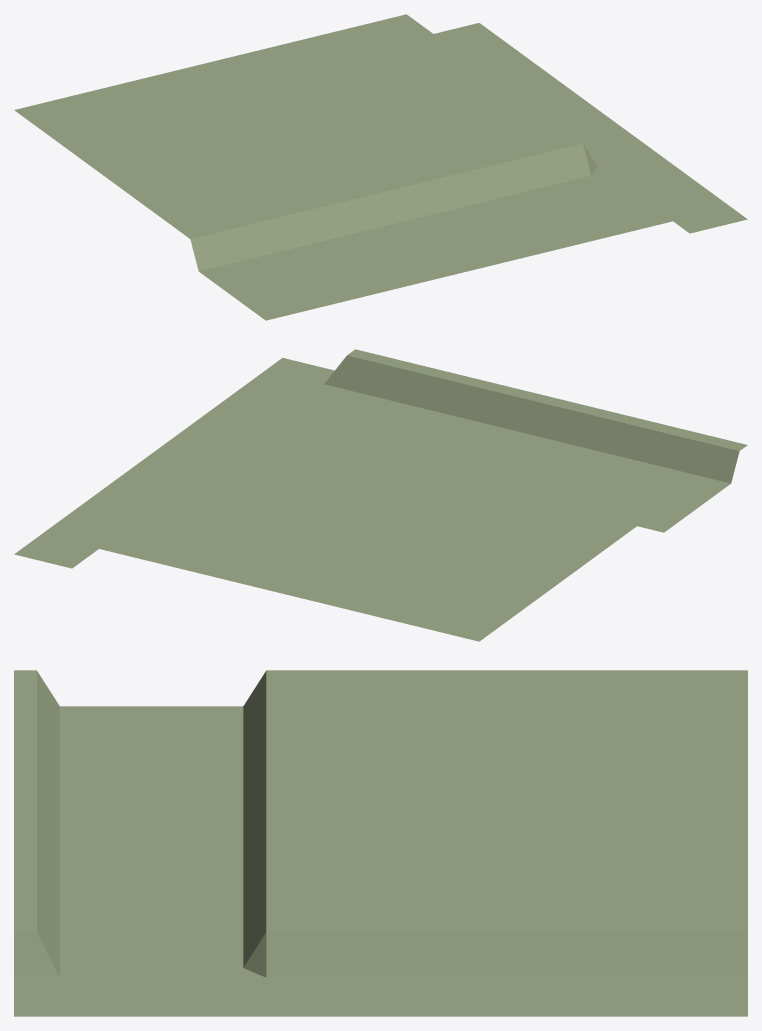
File: canal-0-1.glb
The picture shows the model from 3 angles, top to bottom: view 1: azimuth 30°, elevation 25°; view 2: azimuth 150°, elevation 25°; view 3: azimuth 270°, elevation 25°; orthographic projection. The views are drawn at different scales.
Visible parts, largest first — view 1: canal-0-1; view 2: canal-0-1; view 3: canal-0-1.
Boxes of the visible parts, x1=… form: canal-0-1: x1=14, y1=14, x2=747, y2=320; canal-0-1: x1=14, y1=349, x2=747, y2=641; canal-0-1: x1=14, y1=670, x2=747, y2=1016.
Bounding box in the file's own units: 128 × 6.9 × 128.
